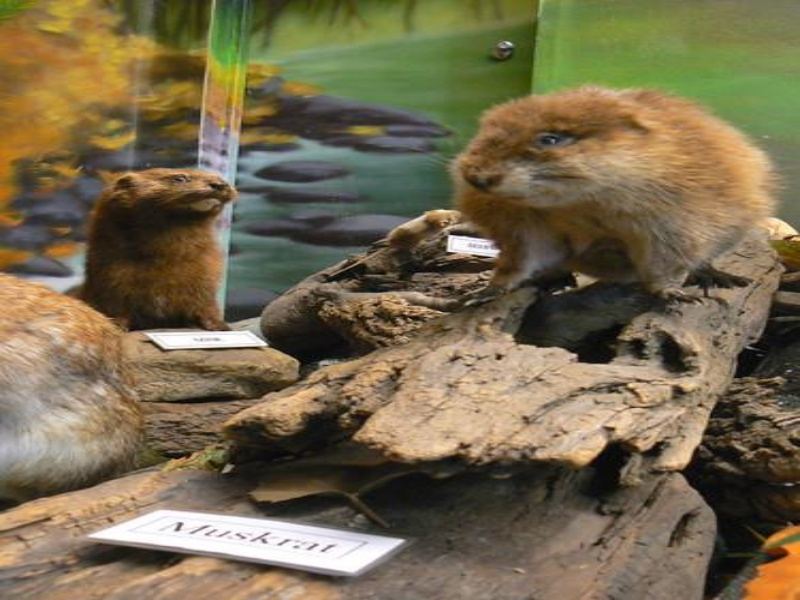minkish: (452, 85, 774, 336), (61, 165, 238, 332)
